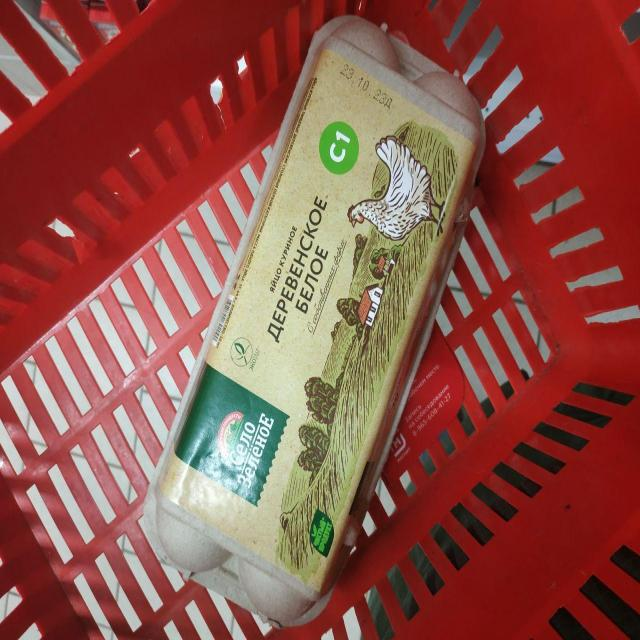Cucumber: (136, 0, 150, 12)
Eggs: (144, 17, 485, 625)
